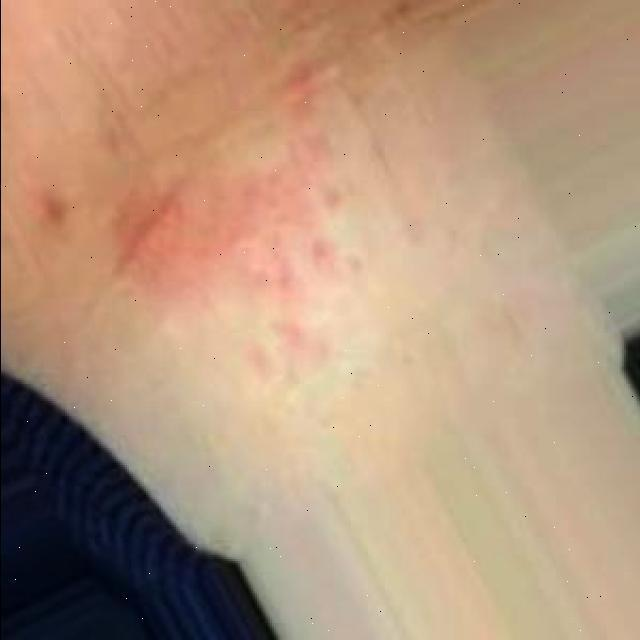Shingles: (112, 137, 346, 380)
